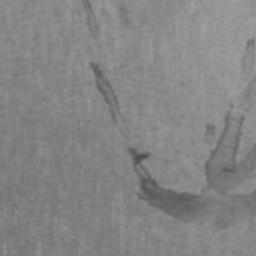Water spot: (127, 36, 256, 230), (88, 60, 132, 142), (82, 0, 101, 38), (118, 4, 132, 29)
